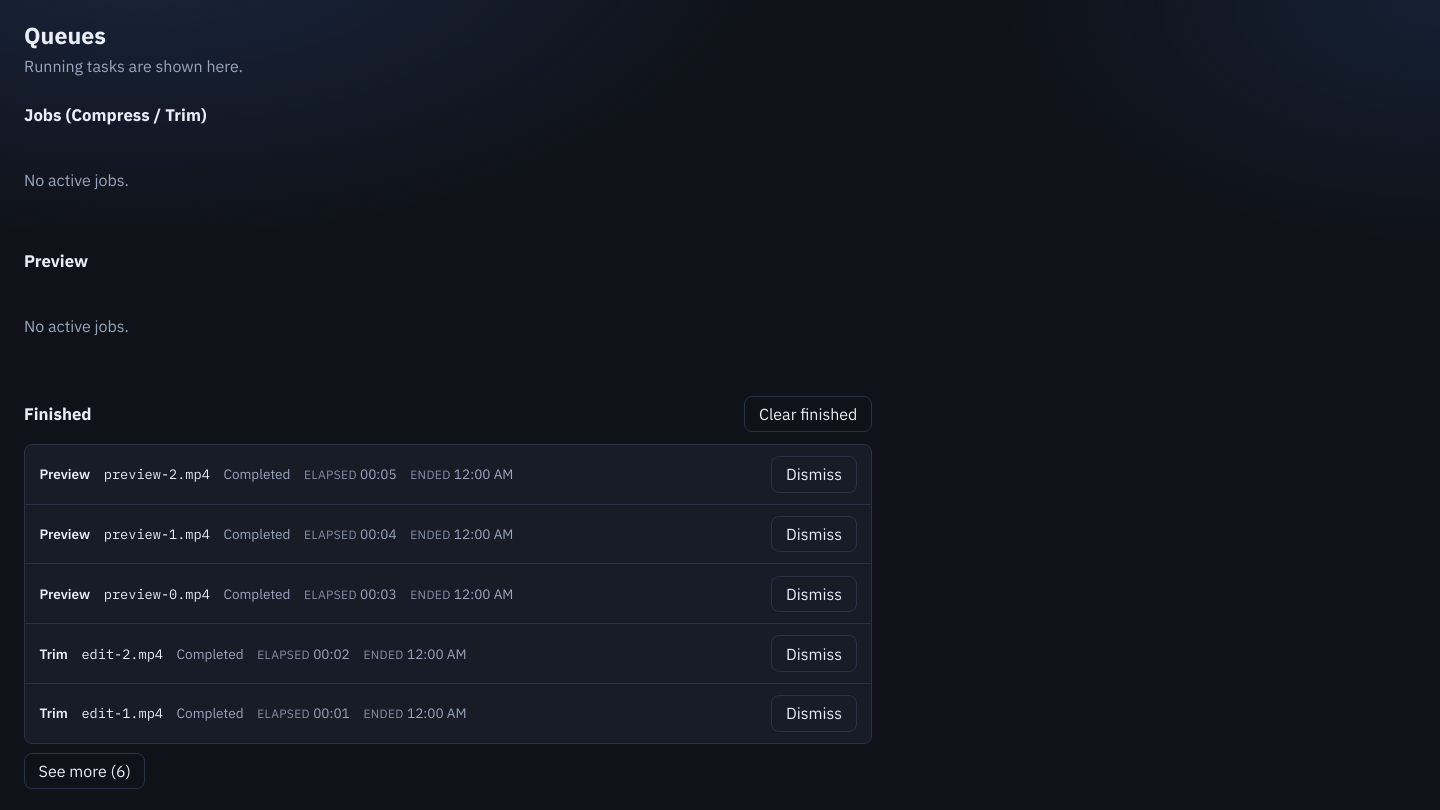
Test: QueuesView › caps global finished list at five and opens see more modal
Expected: the text "preview-2.mp4" is shown, x1=104 y1=465 x2=210 y2=483
Expected: the text "edit-1.mp4" is shown, x1=81 y1=704 x2=163 y2=722
Click the button "See more (6)" at (85, 771), box x1=24 y1=752 x2=146 y2=789
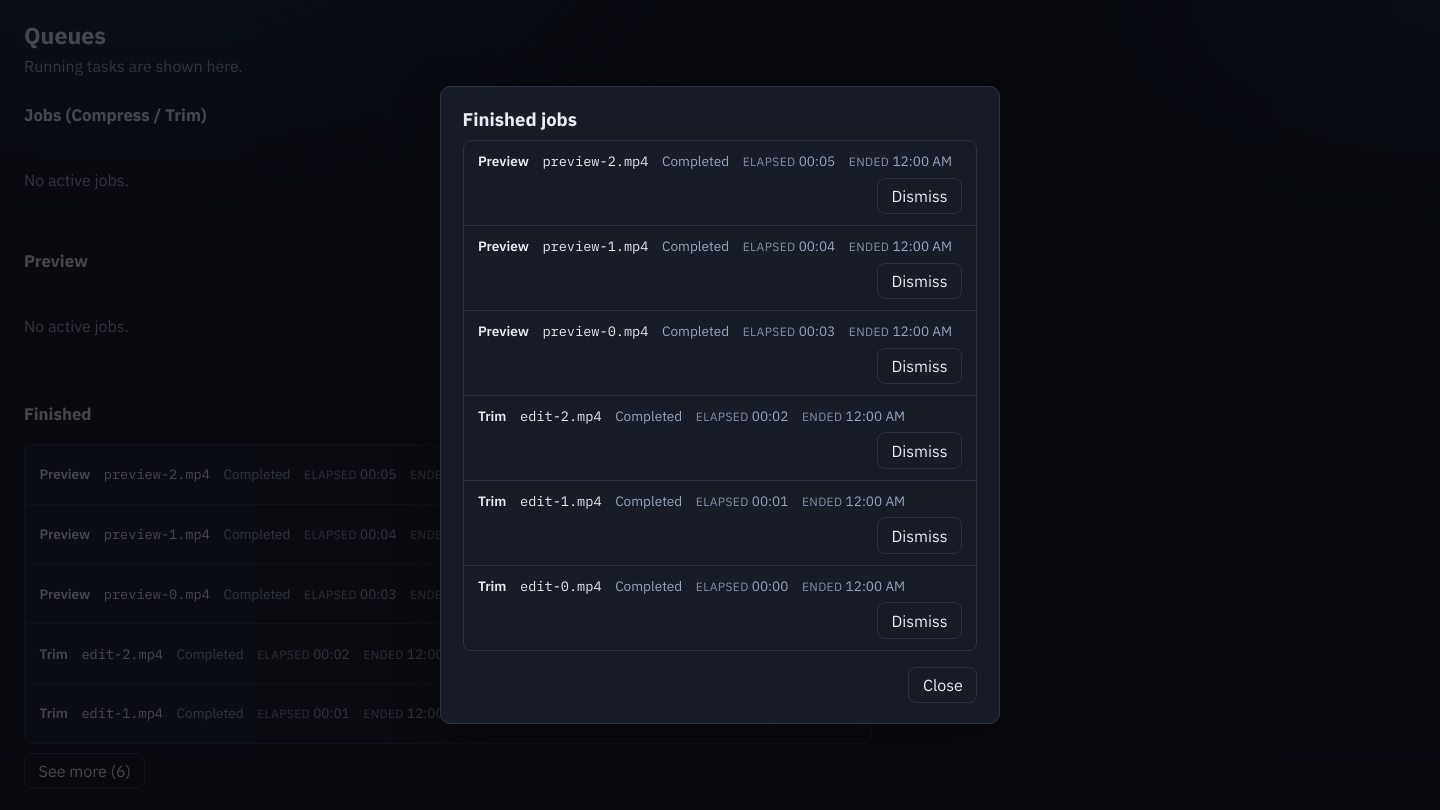
Now the heading "Finished jobs" is shown, box x1=463 y1=107 x2=577 y2=131
Now the text "edit-0.mp4" is shown, box x1=520 y1=577 x2=602 y2=595
Now the text "preview-2.mp4" is shown, box x1=542 y1=152 x2=648 y2=170
